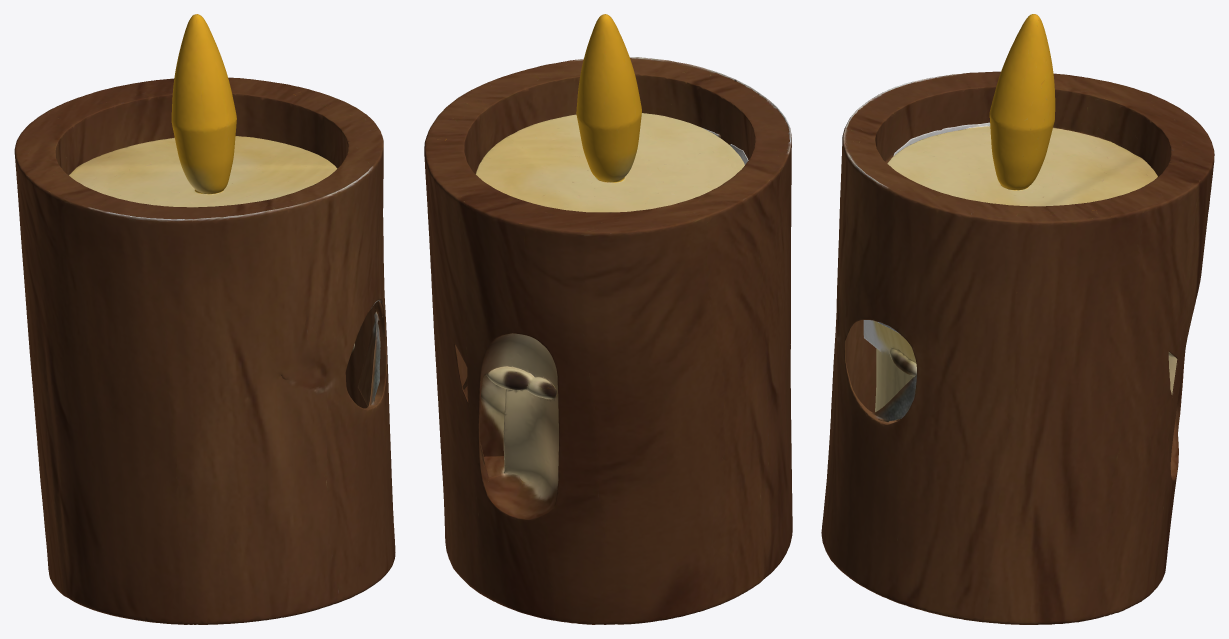
Rendered from Miscellaneous [2ukZwh].glb.
3 renders of one model, left to right at view 1: azimuth 30°, elevation 25°; view 2: azimuth 150°, elevation 25°; view 3: azimuth 270°, elevation 25°, orthographic.
Visible parts, largest first — view 1: world; view 2: world; view 3: world.
Part boxes in pixels (<box>): world: <box>14,14,395,624</box>; world: <box>424,14,792,624</box>; world: <box>821,14,1214,624</box>.
Bounding box in the file's own units: 0.5956 × 0.9944 × 0.6425.
1 material, 1 textured.
